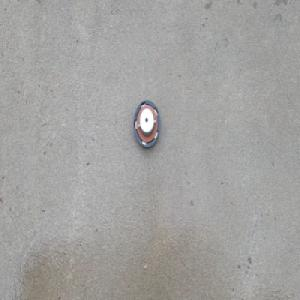FuelCap: (133, 99, 161, 150)
